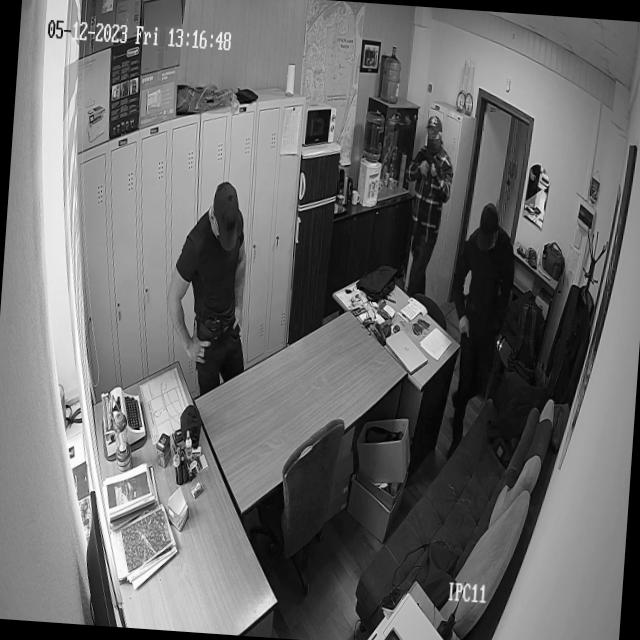gun: (418, 150, 446, 182)
person: (162, 170, 272, 402), (446, 199, 516, 432)
person with a gun: (400, 110, 459, 300)
